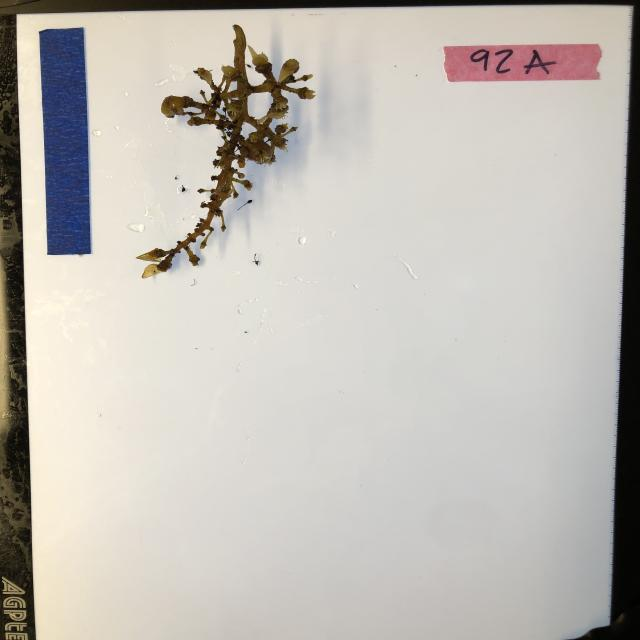index: (441, 43, 607, 82)
measure_label: (39, 26, 94, 257)
rachis_cluster: (134, 22, 316, 280)
